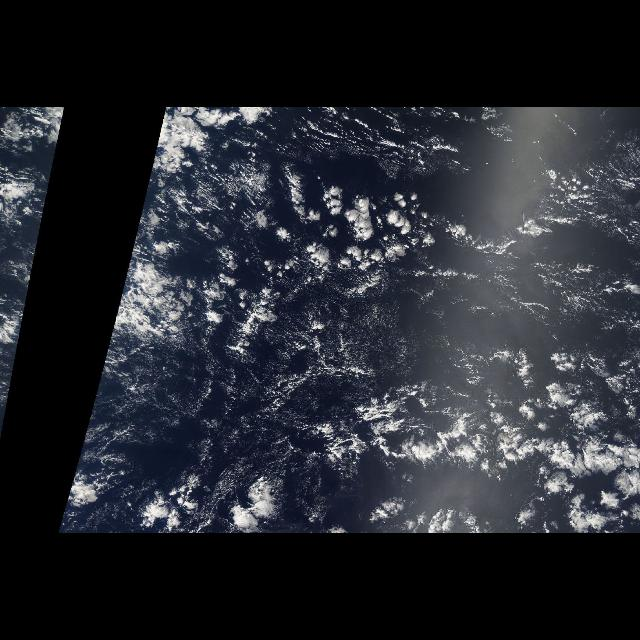Flower: (182, 146, 640, 534)
Sugar: (82, 343, 330, 485), (481, 134, 637, 340)
